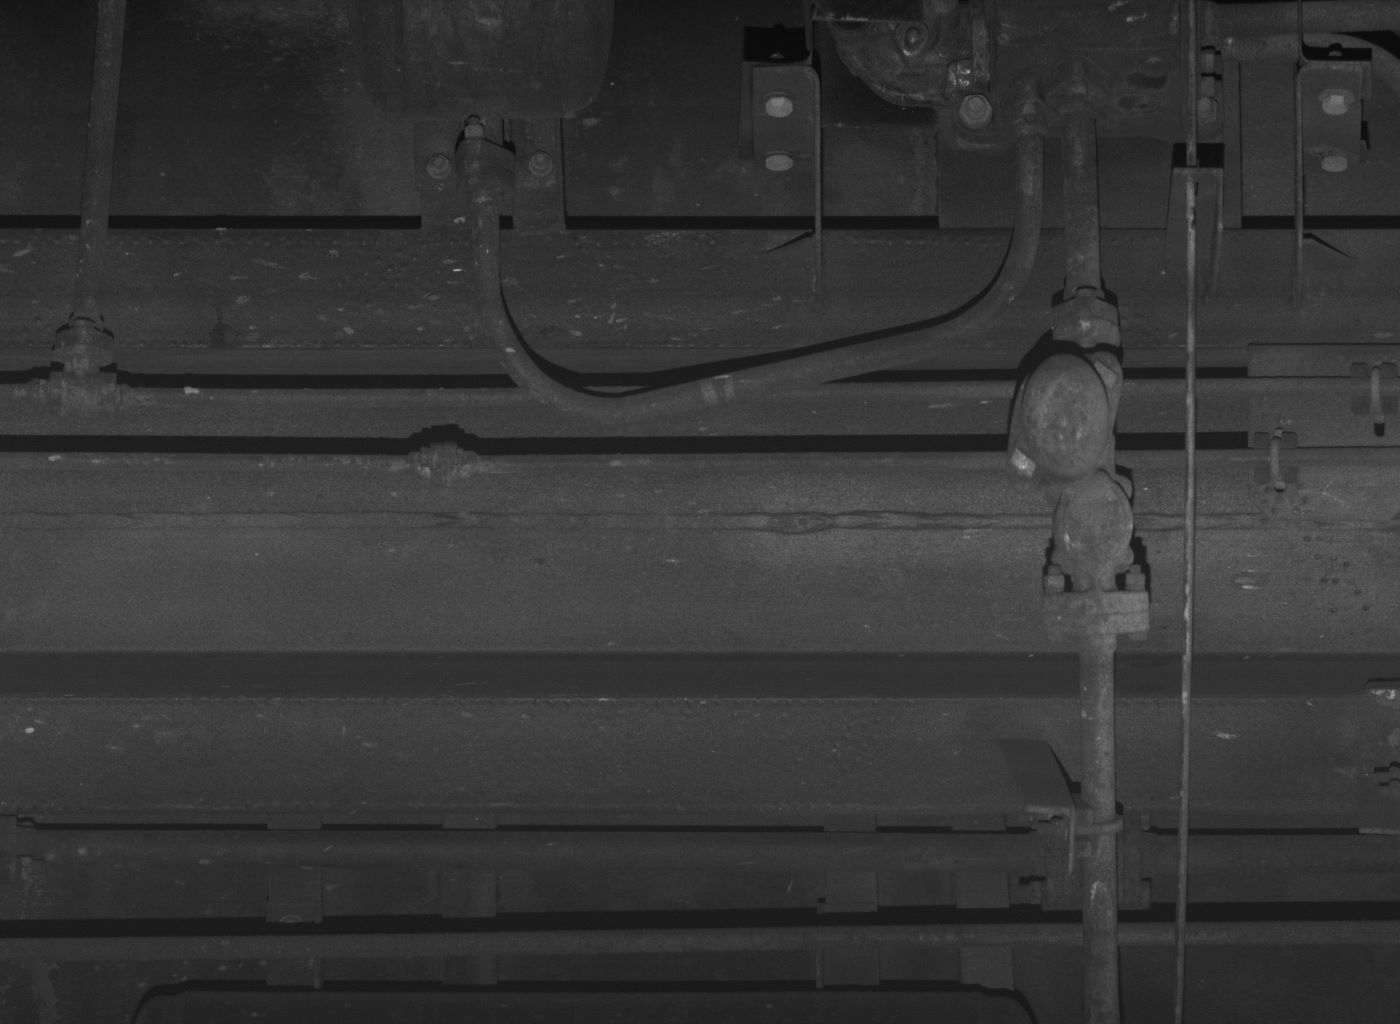normal: (1048, 471, 1136, 575)
